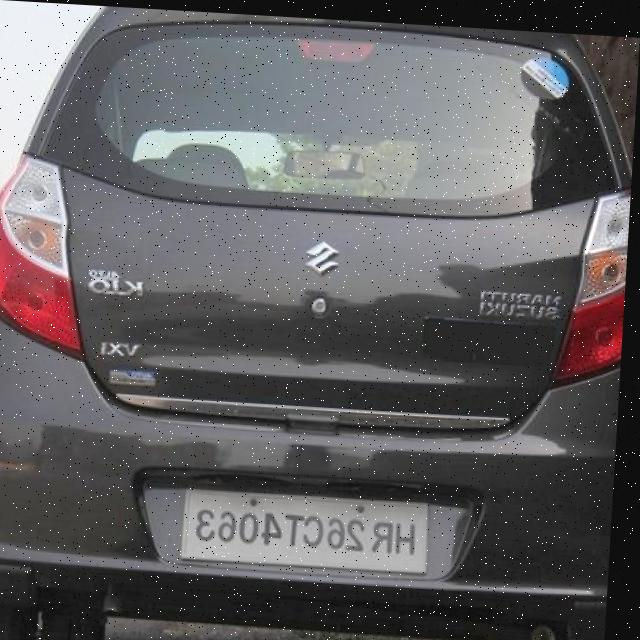plate: (187, 488, 431, 569)
